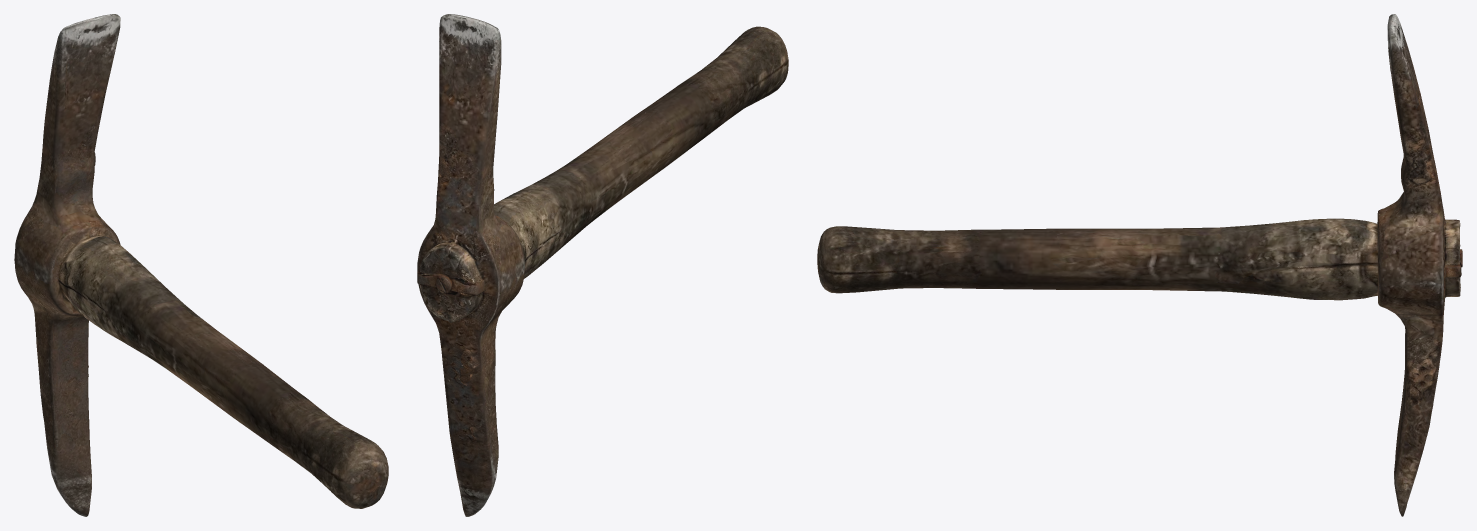
File: pickaxe.52fcc2cc.glb
3 renders of one model, left to right at view 1: azimuth 30°, elevation 25°; view 2: azimuth 150°, elevation 25°; view 3: azimuth 270°, elevation 25°, orthographic.
Visible parts, largest first — view 1: item; view 2: item; view 3: item.
Boxes of the visible parts, x1,y1,x2,y2 form: item: [14, 14, 388, 516]; item: [417, 14, 788, 516]; item: [817, 14, 1462, 516].
Size of the model in its own units: 0.1228 by 0.7167 by 0.8499.
Materials: 1 (1 with a texture image).
